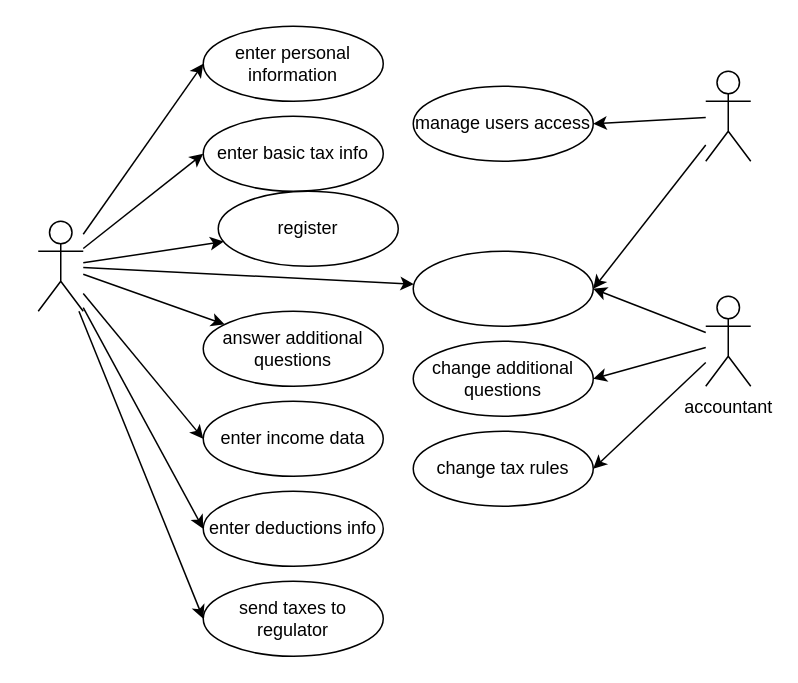
Some shapes in this 798 by 683 pixel diagram are drawn without their labels. The centre of each missing label's shape, as x and y in pixels:
"admin" goes at point (727, 115).
"EndUser" goes at point (60, 265).
"logs in" goes at point (502, 288).
